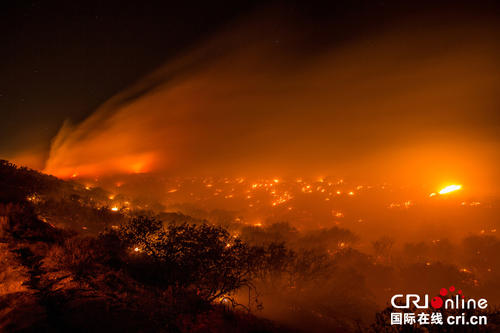fire: (435, 181, 466, 198)
smoke: (139, 78, 496, 164)
